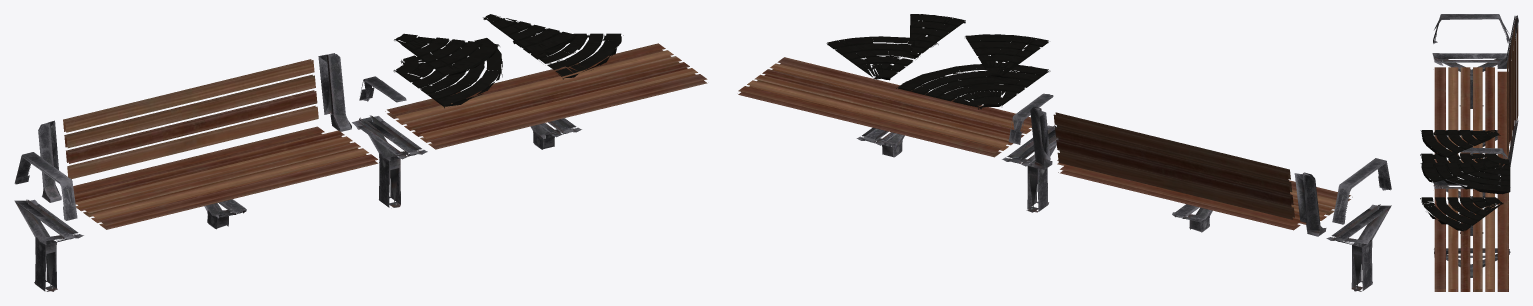
File: ph_modular_street_seating.glb
The picture shows the model from 3 angles, left to right: view 1: azimuth 30°, elevation 25°; view 2: azimuth 150°, elevation 25°; view 3: azimuth 270°, elevation 25°; orthographic projection. The views are drawn at different scales.
Visible parts, largest first — view 1: crossbar; view 2: crossbar; view 3: crossbar.
Boxes of the visible parts, <box> form: crossbar: <box>14,14,707,291</box>; crossbar: <box>738,14,1391,291</box>; crossbar: <box>1420,14,1518,291</box>.
Bounding box in the file's own units: 4.34 × 0.9535 × 0.7652.
5 materials, 5 textured.
